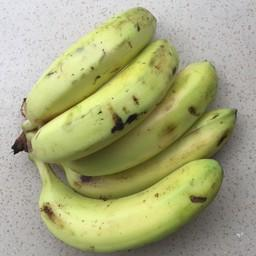Good_banana: (20, 3, 238, 251)
